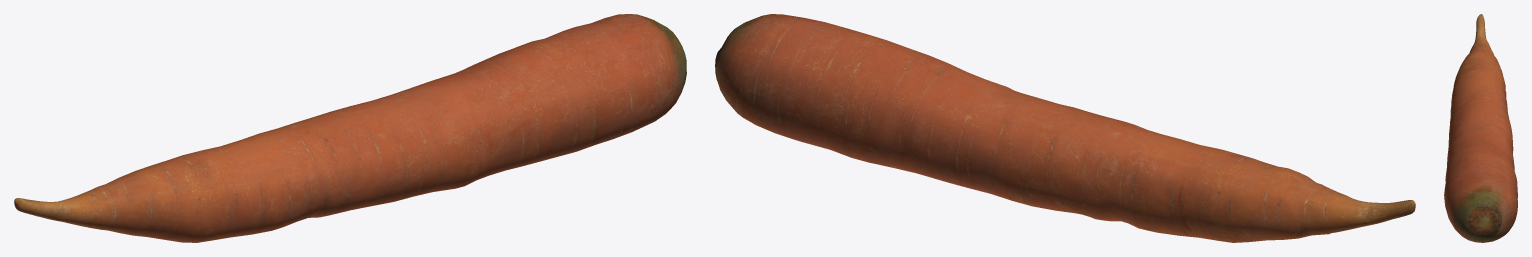
Rendered from carrot.fbx.
3 renders of one model, left to right at view 1: azimuth 30°, elevation 25°; view 2: azimuth 150°, elevation 25°; view 3: azimuth 270°, elevation 25°, orthographic. The views are drawn at different scales.
Parts seen in each view (by area): view 1: Aset_edible_vegetables_S_ub2lehrjw_LOD0; view 2: Aset_edible_vegetables_S_ub2lehrjw_LOD0; view 3: Aset_edible_vegetables_S_ub2lehrjw_LOD0.
Boxes of the visible parts, left/top/right/bottom form: Aset_edible_vegetables_S_ub2lehrjw_LOD0: left=14, top=14, right=686, bottom=242; Aset_edible_vegetables_S_ub2lehrjw_LOD0: left=715, top=14, right=1415, bottom=242; Aset_edible_vegetables_S_ub2lehrjw_LOD0: left=1444, top=14, right=1517, bottom=242.
Size of the model in its own units: 21.01 by 3.51 by 3.34.
Materials: 1 (1 with a texture image).
